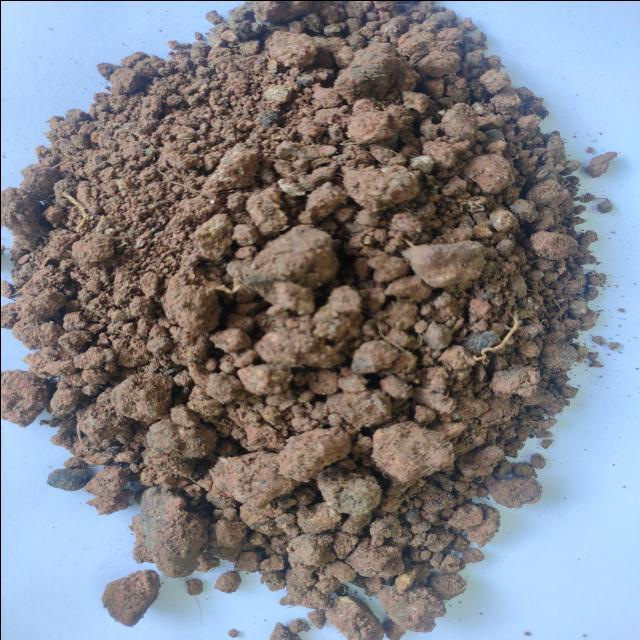soil: (96, 65, 538, 512)
